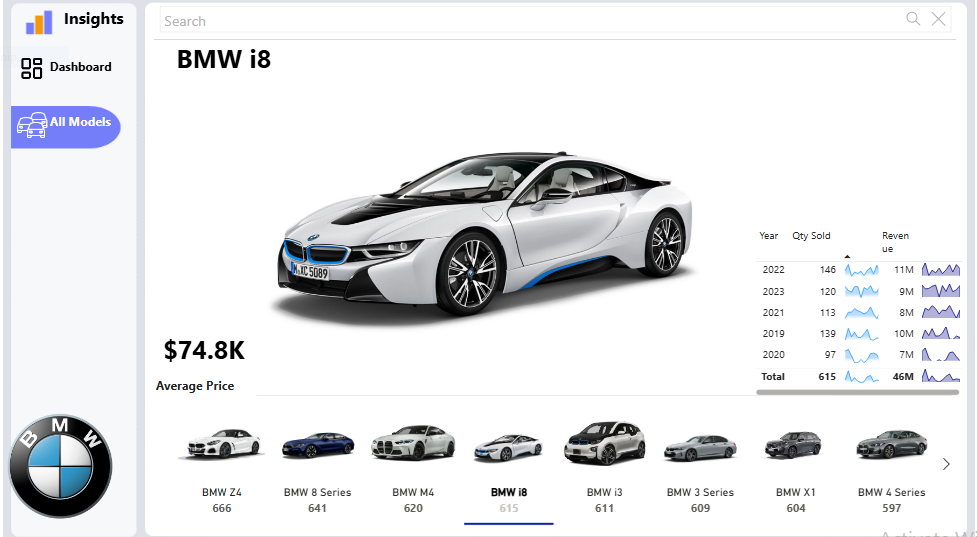

This screenshot's page, from the dashboard's own definition file:
{"tool":"powerbi","page":{"name":"All Cars","canvas":[1280,720],"ordinal":1},"visuals":[{"type":"textSearchSlicerF85E2E78BE4A4D7D9F99ED75B5D71C85","fields":{"fields":["dimModel.Model"]},"box":[195.5,0,1061.7,55.7],"z":0},{"type":"advancedSlicerVisual","fields":{"Values":["dimModel.Model"]},"box":[204.1,528,1053.1,171.2],"z":1000},{"type":"advancedSlicerVisual","fields":{"Values":["dimModel.Model"]},"box":[163,55.3,951,473.4],"z":2000},{"type":"shape","box":[172.9,41.1,236.7,73.7],"z":3000},{"type":"shape","box":[172.9,432.3,184.3,60.9],"z":4000},{"type":"textbox","box":[195.6,493.2,137.5,34],"z":5000},{"type":"tableEx","fields":{"Values":["Calender.Year","All Measure.Qty Sold","All Measure.Qty Sale Gradient Sparkline","All Measure.Revenue","All Measure.Revenue Sparkline"]},"box":[985,297.6,283.5,231],"z":6000},{"type":"textbox","box":[56.7,146,96.4,41.1],"z":7000},{"type":"image","box":[9.9,141.7,56.7,49.6],"z":8000},{"type":"textbox","box":[57.2,73.3,96.5,41.1],"z":9000},{"type":"image","box":[14.3,71.5,46.5,42.9],"z":10000},{"type":"actionButton","box":[14.3,67.9,148.4,46.5],"z":11000},{"type":"actionButton","box":[9.9,146,147.4,45.4],"z":12000},{"type":"image","box":[0,542,150.2,148.4],"z":25001},{"type":"actionButton","box":[0,141.2,148.4,46.5],"z":25002},{"type":"actionButton","box":[14.3,141.2,134.1,50.1],"z":25003},{"type":"textbox","box":[75.1,7.2,98.3,41.1],"z":25004},{"type":"image","box":[14.3,7.2,66.1,48.3],"z":25005}]}

Visuals, with their boxes on the page's 1280x720 design canvas (x1, y1, x2, y2). These are canvas units, not pixel positions in the 977x537 screenshot, which may show the page scaled, cropped or inside an application window:
textSearchSlicerF85E2E78BE4A4D7D9F99ED75B5D71C85 - dimModel.Model: 196,0,1257,56
advancedSlicerVisual - dimModel.Model: 204,528,1257,699
advancedSlicerVisual - dimModel.Model: 163,55,1114,529
shape: 173,41,410,115
shape: 173,432,357,493
textbox: 196,493,333,527
tableEx - Calender.Year x All Measure.Qty Sold: 985,298,1268,529
textbox: 57,146,153,187
image: 10,142,67,191
textbox: 57,73,154,114
image: 14,72,61,114
actionButton: 14,68,163,114
actionButton: 10,146,157,191
image: 0,542,150,690
actionButton: 0,141,148,188
actionButton: 14,141,148,191
textbox: 75,7,173,48
image: 14,7,80,56
